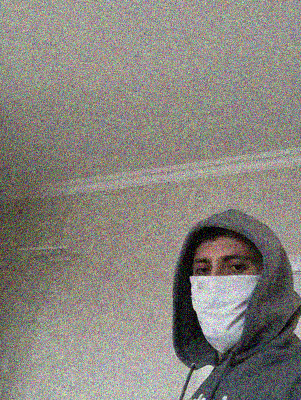with_mask: (190, 248, 263, 354)
